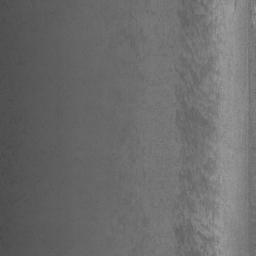Silk spot: (170, 54, 220, 165), (172, 158, 220, 256), (177, 0, 216, 62), (200, 198, 219, 231), (125, 35, 135, 48), (142, 215, 149, 227)
